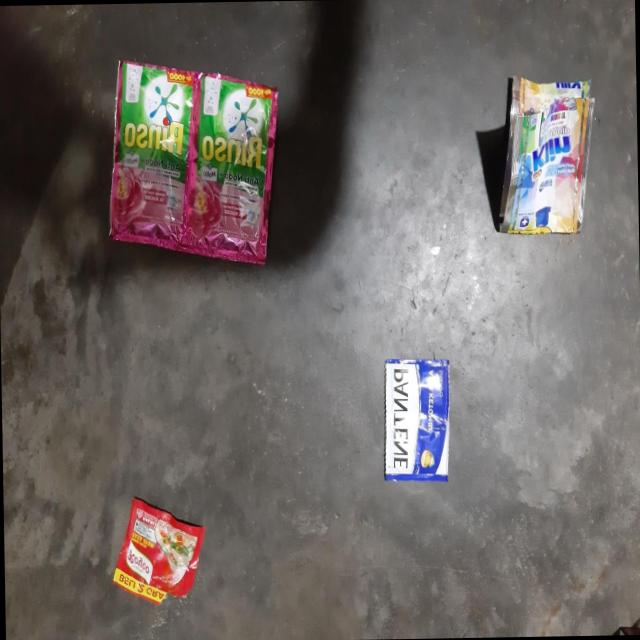KemasanPlastik: (104, 56, 281, 269), (486, 73, 600, 250), (376, 348, 457, 488), (112, 498, 210, 608)
